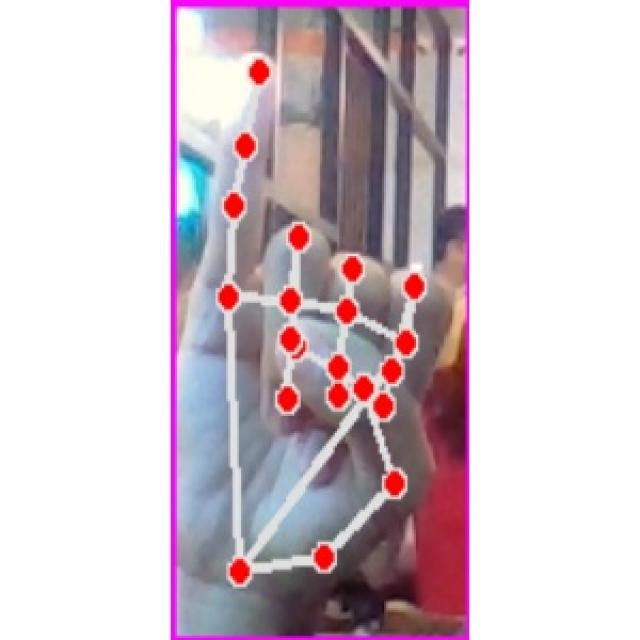I: (182, 38, 456, 612)
